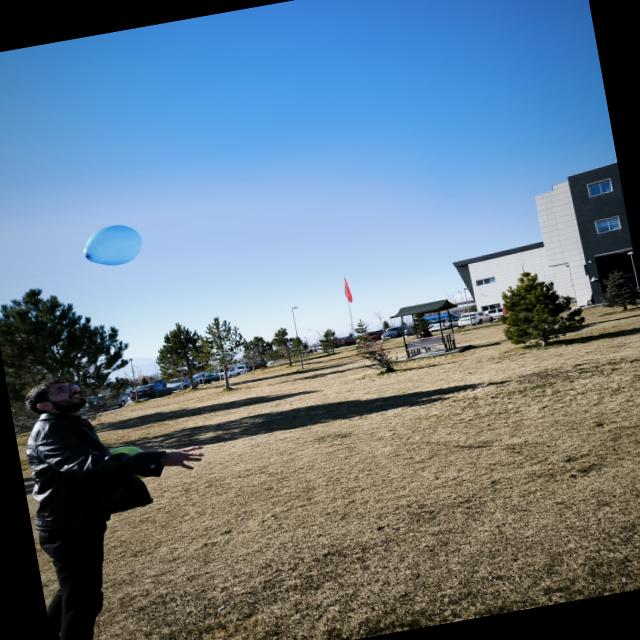balloon: (83, 225, 142, 264)
